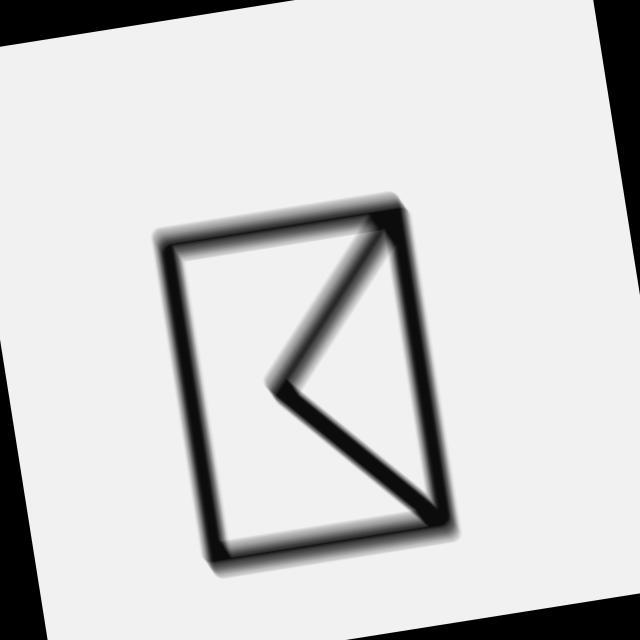letter: (144, 184, 466, 584)
